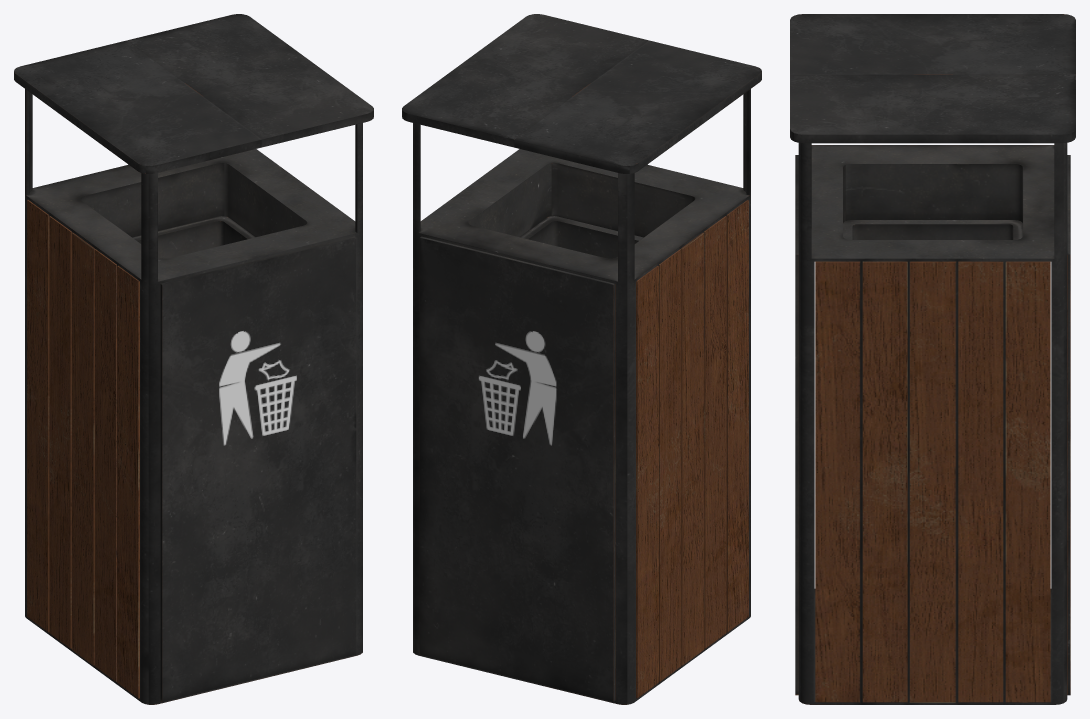
File: TrashBin.fbx
3 views of the same model, side by side, from view 1: azimuth 30°, elevation 25°; view 2: azimuth 150°, elevation 25°; view 3: azimuth 270°, elevation 25° (orthographic). The views are drawn at different scales.
Parts seen in each view (by area): view 1: Cube.001; view 2: Cube.001; view 3: Cube.001.
Boxes of the visible parts, x1,y1,x2,y2 form: Cube.001: (14, 14, 373, 704); Cube.001: (402, 14, 761, 704); Cube.001: (790, 14, 1075, 704).
Size of the model in its own units: 0.5629 by 1.25 by 0.5629.
